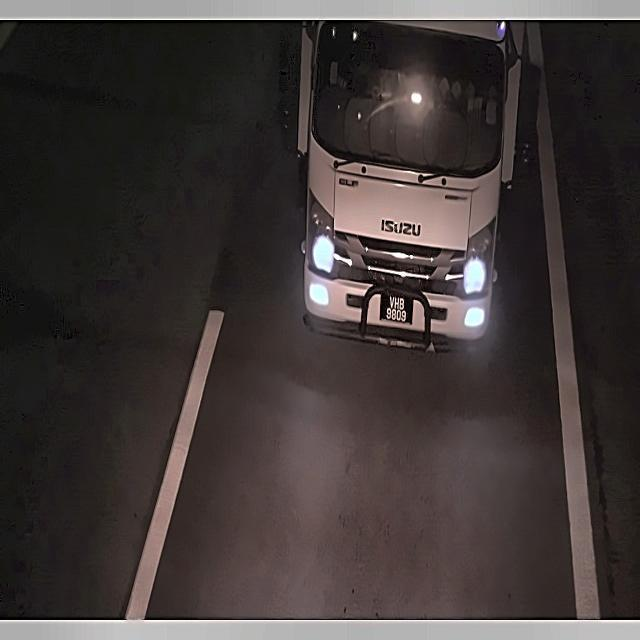car: (375, 285, 416, 333)
